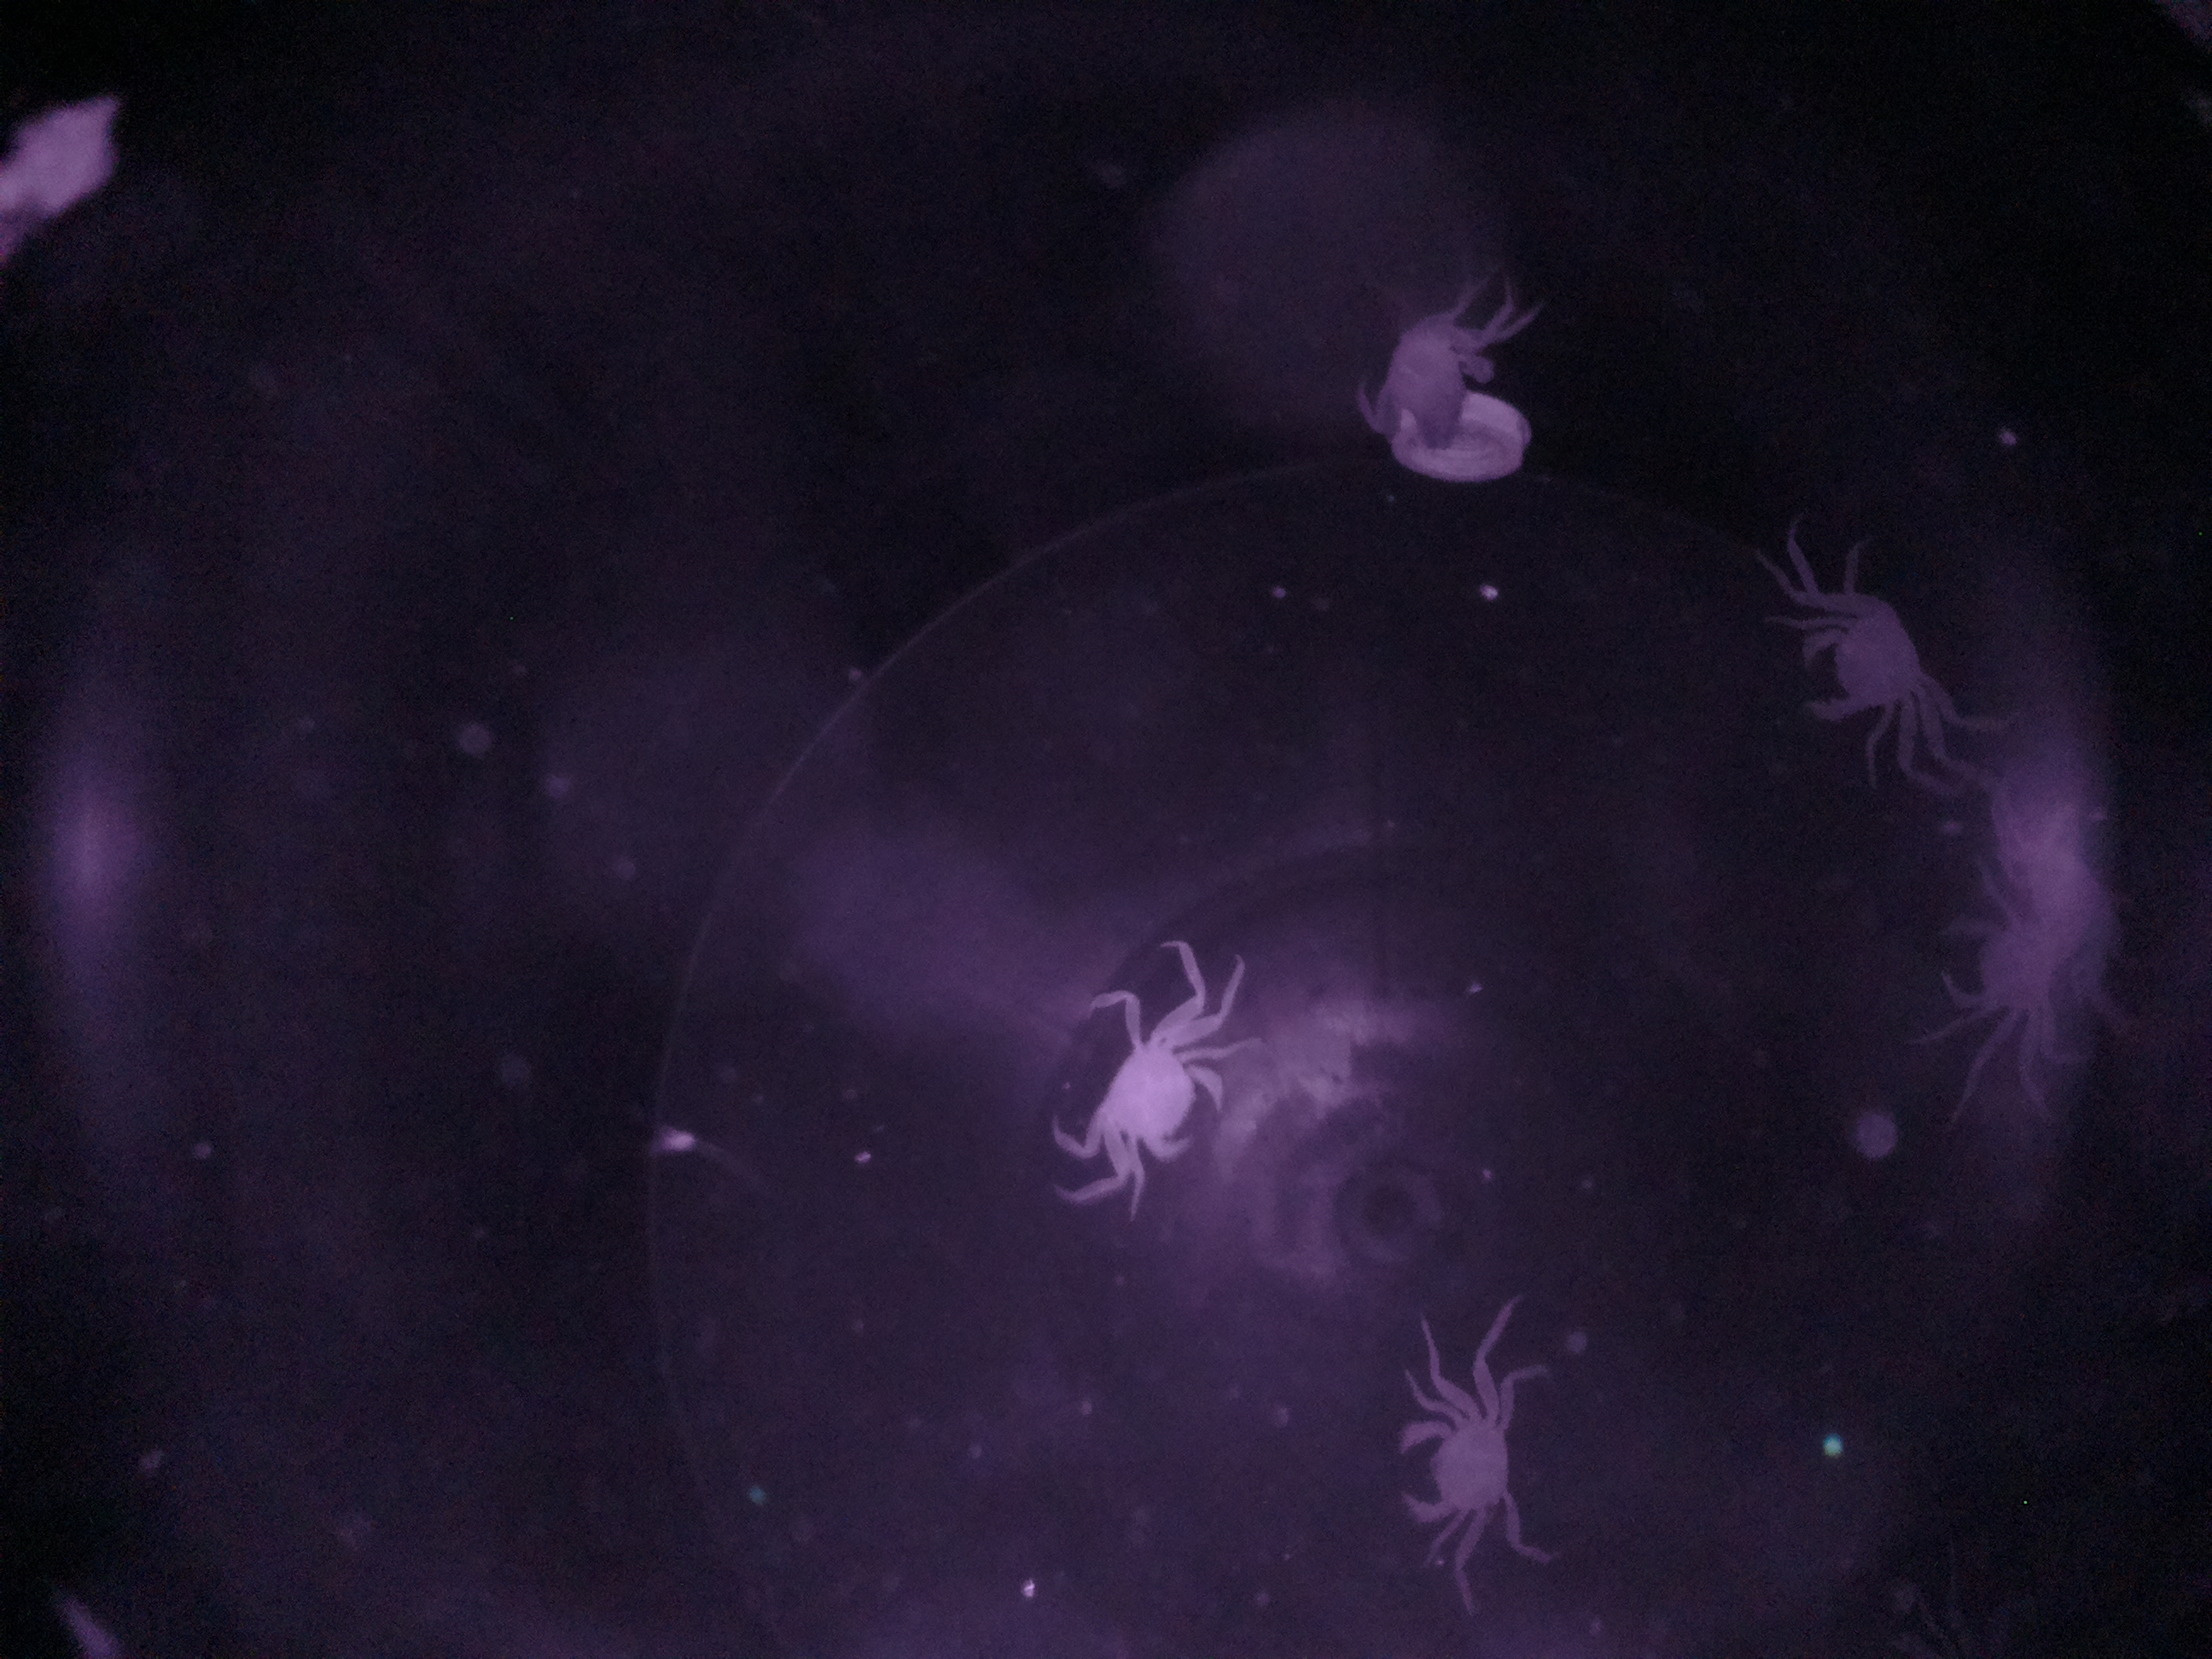Crab: (1064, 965, 1247, 1216), (1390, 1316, 1547, 1572), (1775, 565, 1951, 767)
